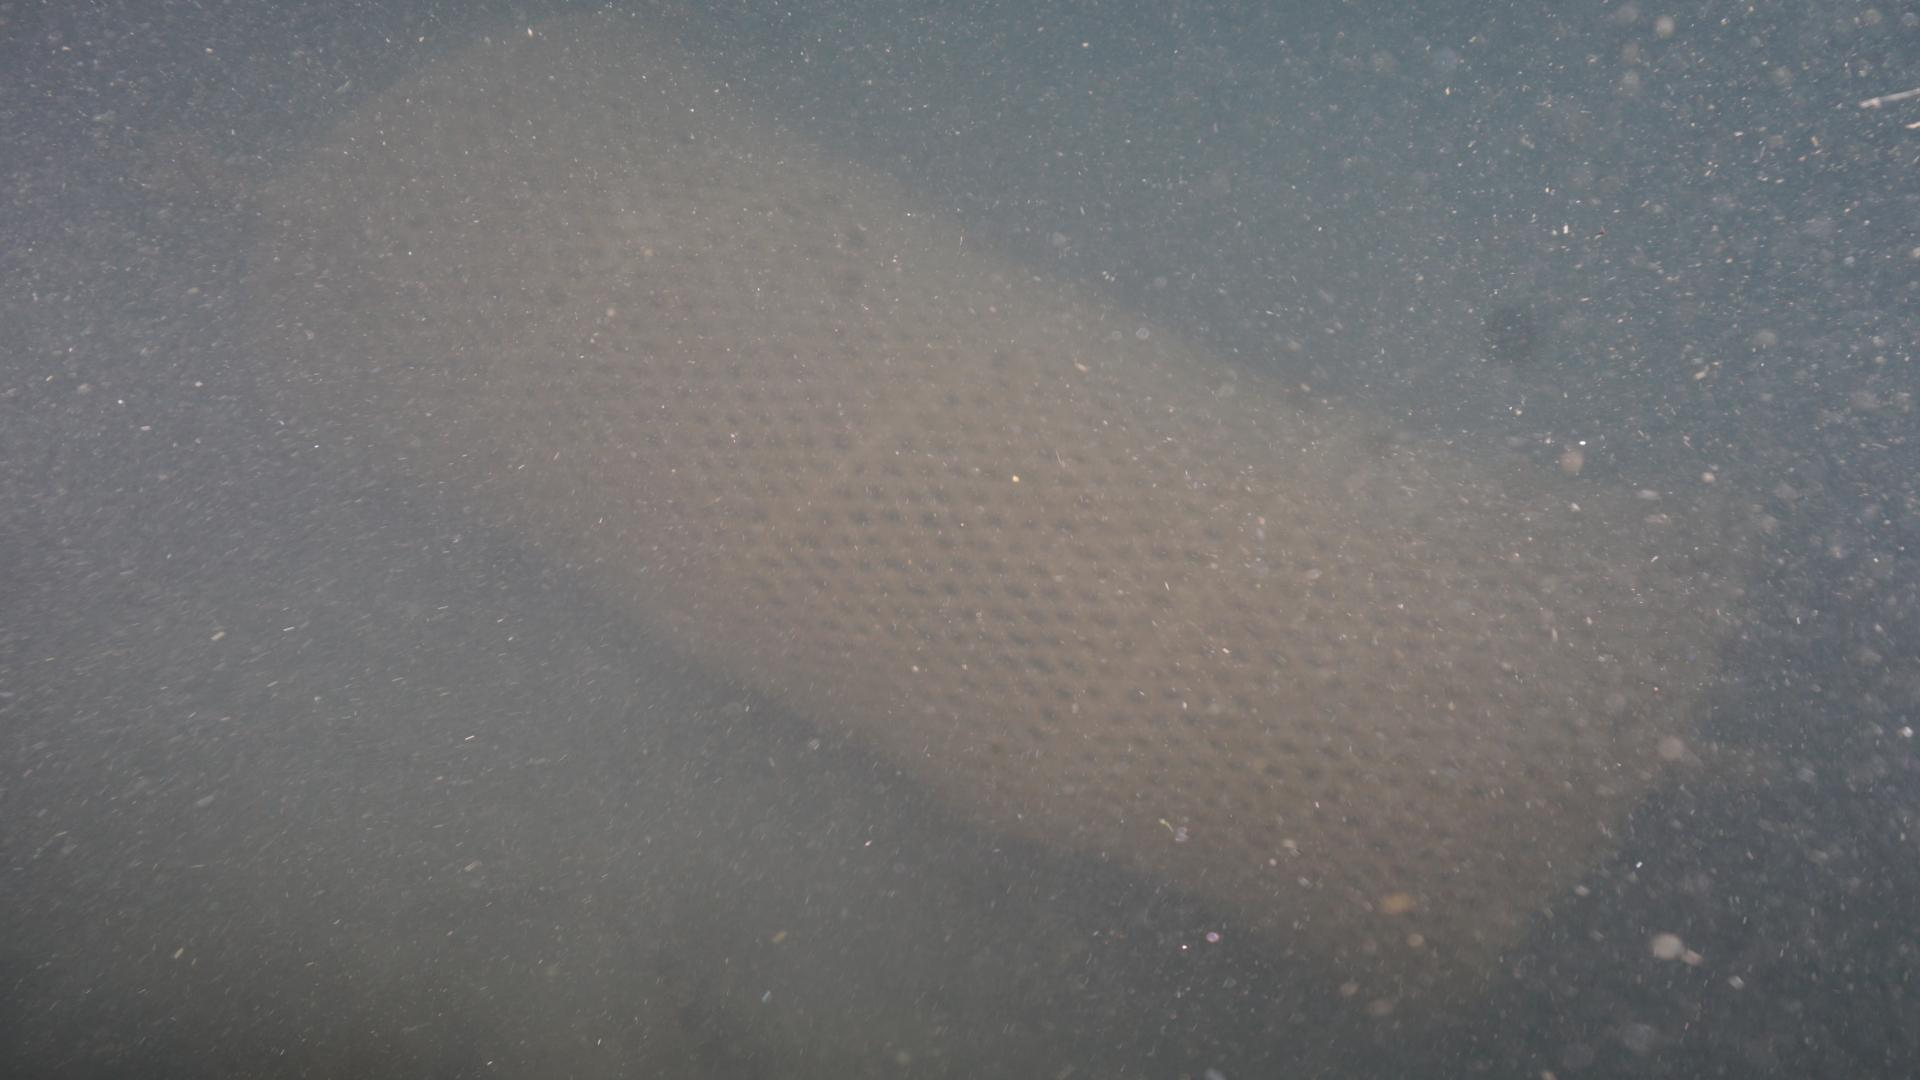spring fish trap: (227, 7, 1753, 1035)
